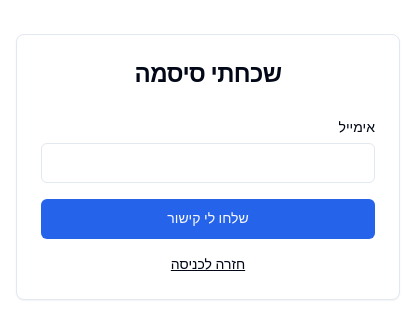
Test: ForgotPasswordPage › shows an error when sending fails
Type "mom@family.com" into the field labelled "אימייל" at (208, 163), box [41,143,375,183]
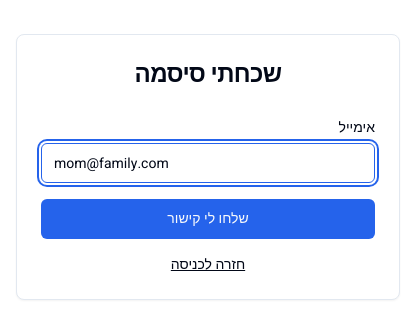
Click the button "שלחו לי קישור" at (208, 219), box [41,199,375,239]
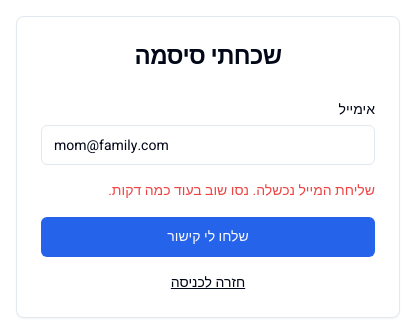
Result: the message shows "שליחת המייל נכשלה" at [108,180,375,201]
